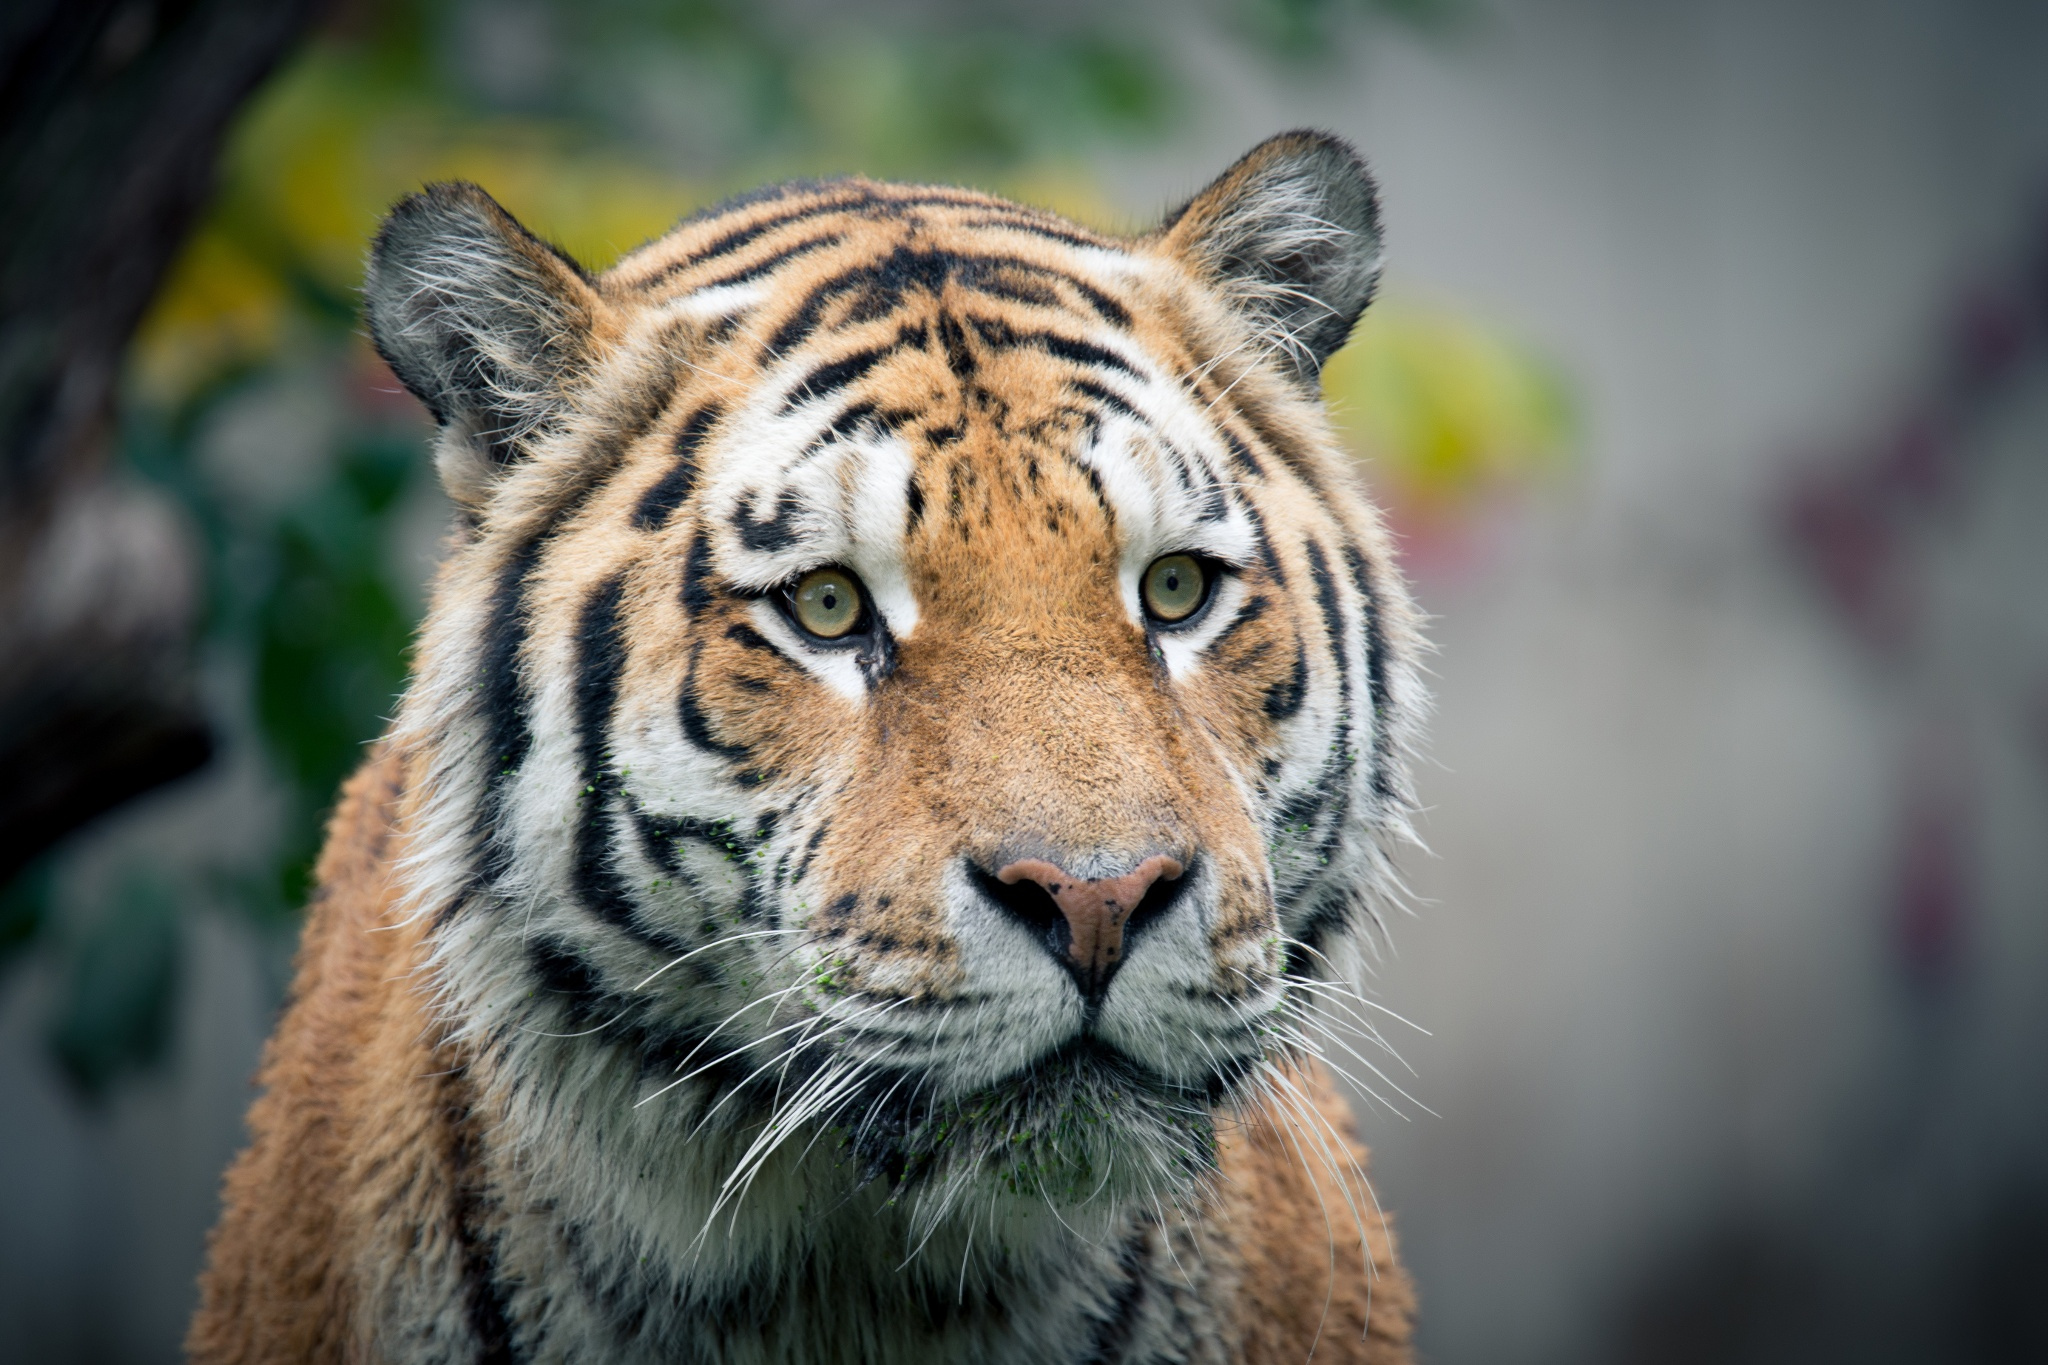tiger: (268, 110, 1501, 1299)
